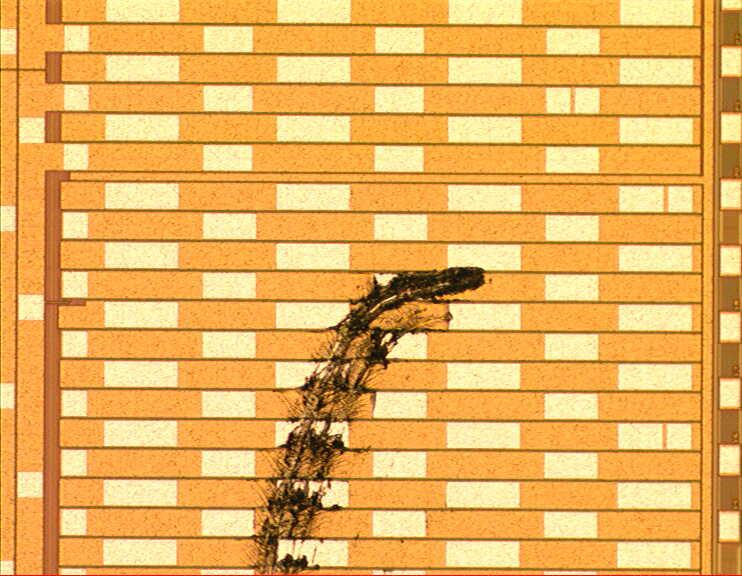SCRATCH: (244, 264, 490, 576)
